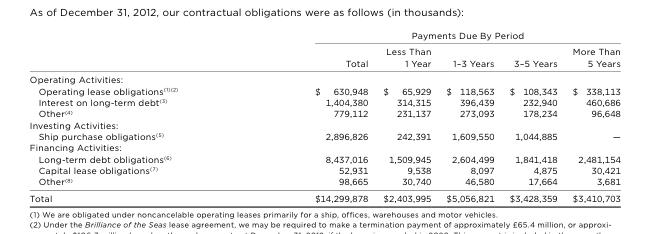table: (28, 28, 619, 203)
table column: (28, 28, 245, 203), (245, 28, 374, 203), (437, 28, 501, 203), (374, 28, 437, 203), (501, 28, 564, 203), (564, 28, 619, 203)
table column header: (28, 28, 619, 70)
table projected row header: (28, 70, 619, 84), (28, 118, 619, 129), (28, 141, 619, 152)
table row: (28, 42, 619, 70), (28, 28, 619, 42), (28, 70, 619, 84), (28, 175, 619, 189), (28, 189, 619, 203), (28, 95, 619, 107), (28, 129, 619, 141), (28, 152, 619, 164), (28, 84, 619, 95), (28, 107, 619, 118), (28, 118, 619, 129), (28, 141, 619, 152), (28, 164, 619, 175)
table spanning cell: (245, 28, 619, 42)
